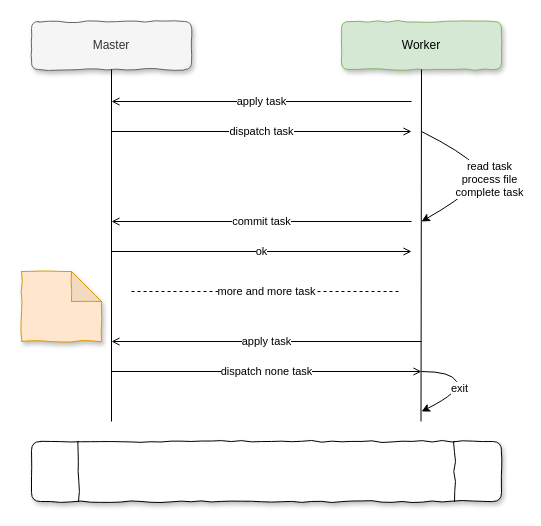
This 541x526 diagram has some shape labels left out. Here are the shapes that lost their labels. From the top down, the centre of each, then its label:
the point at 62,307: all tasks done
the point at 267,472: rpc http unix socket
